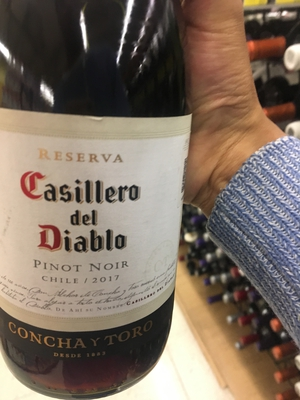casillero del diablo pinot noir: (3, 11, 200, 400)
